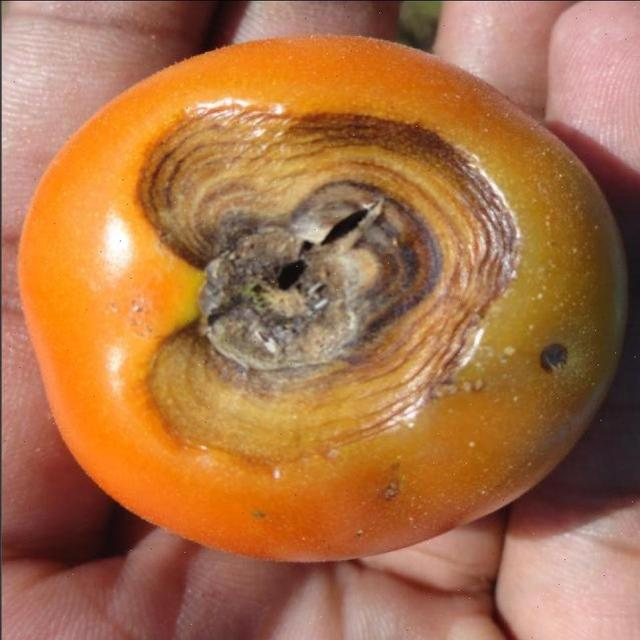Sunscald Fruit: (76, 54, 346, 347)
